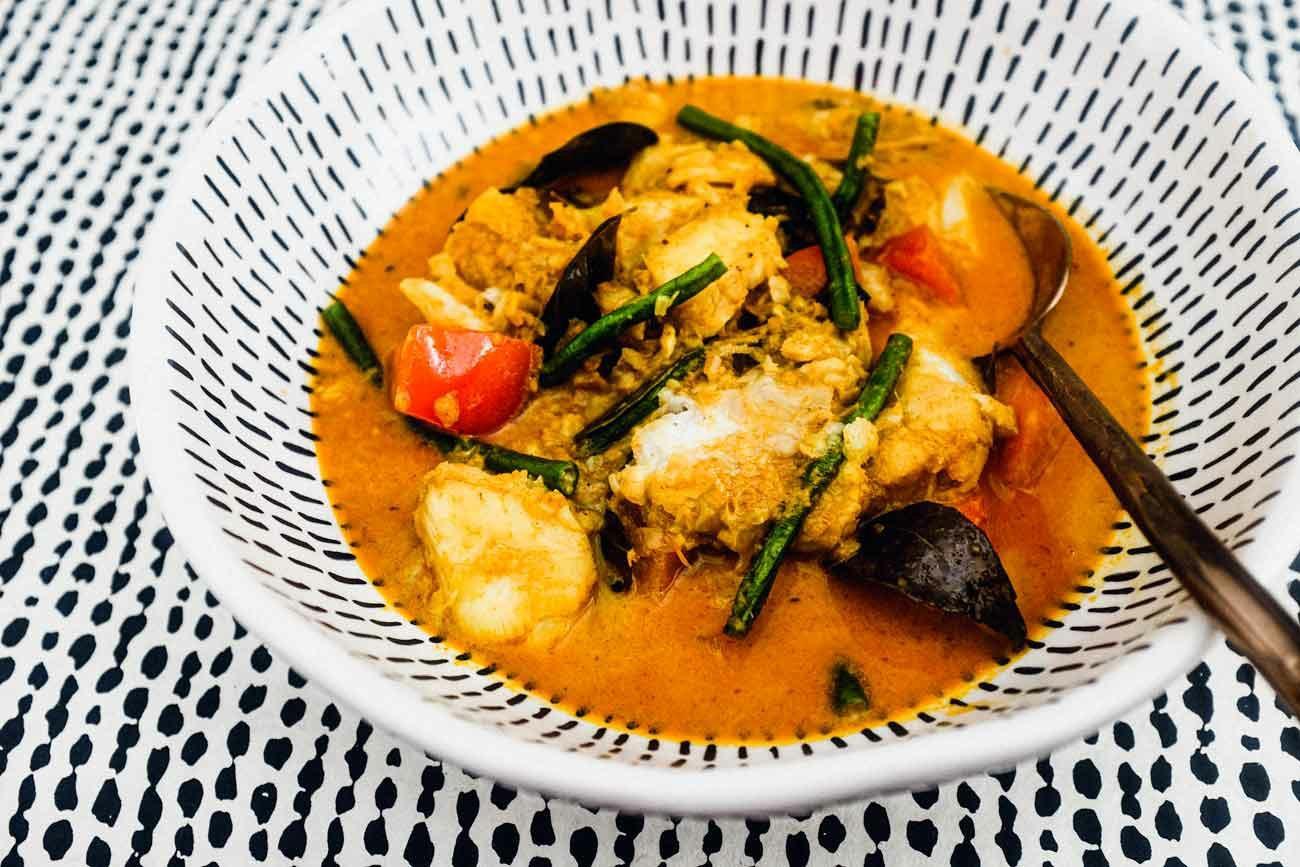FishCurry: (319, 73, 1140, 745)
